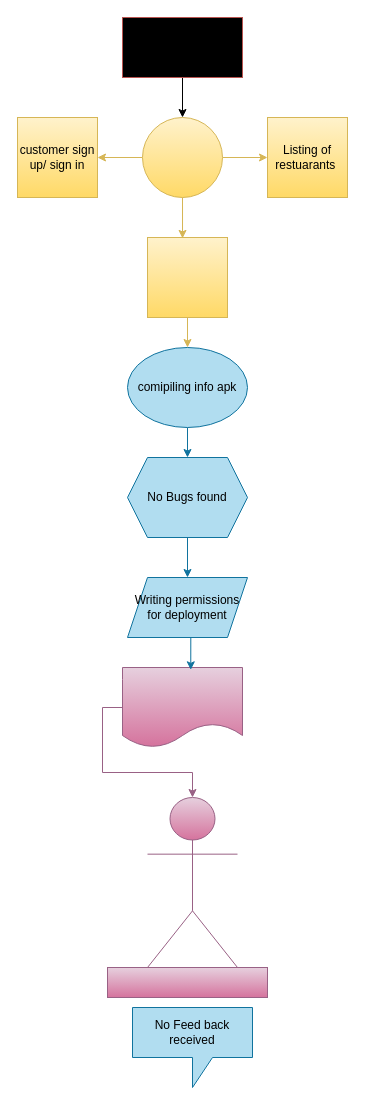
This 365x1105 diagram has some shape labels left out. Here are the shapes that lost their labels. From the top down, the box of each, then its label:
(142, 116, 222, 198): Design uiux
(146, 236, 228, 318): check out page & RTS
(122, 666, 242, 748): pushing the APK to cloud of App store
(106, 966, 268, 998): customer using aplication
